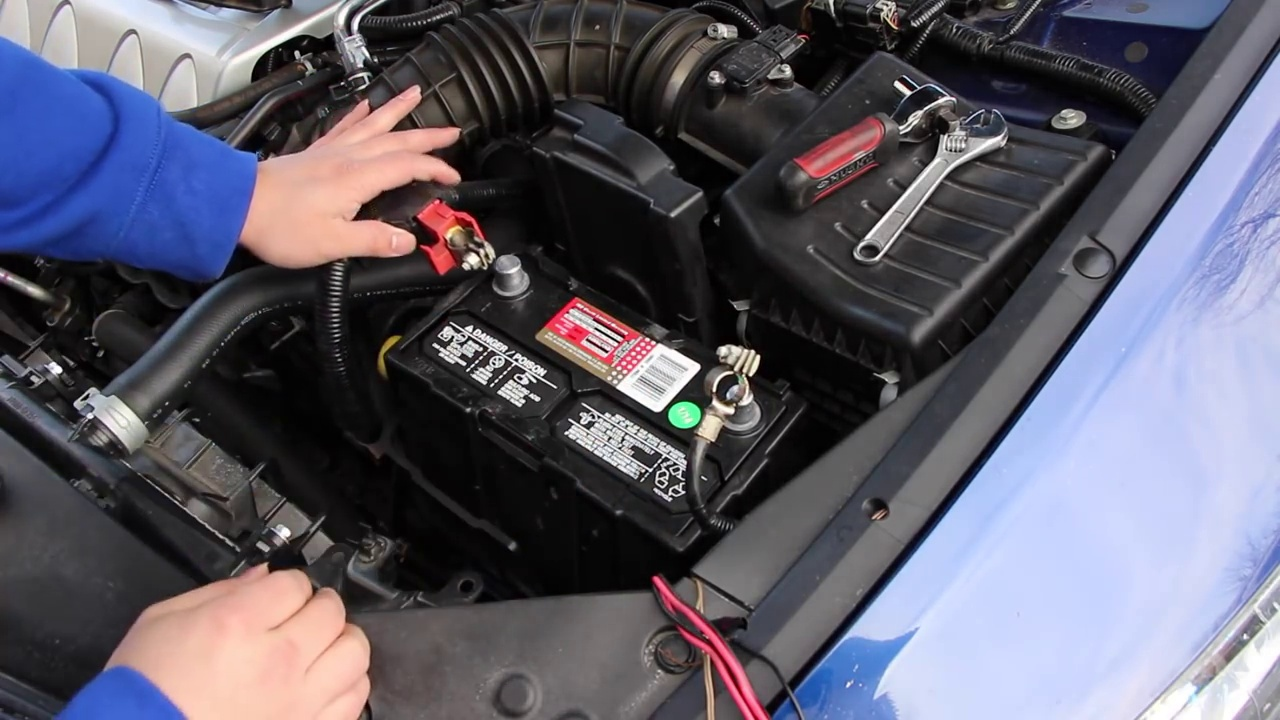battery: (395, 239, 785, 541)
neg_disconnected: (682, 331, 782, 460)
pos_disconnected: (406, 205, 542, 309)
pos_touched: (312, 147, 552, 317)
